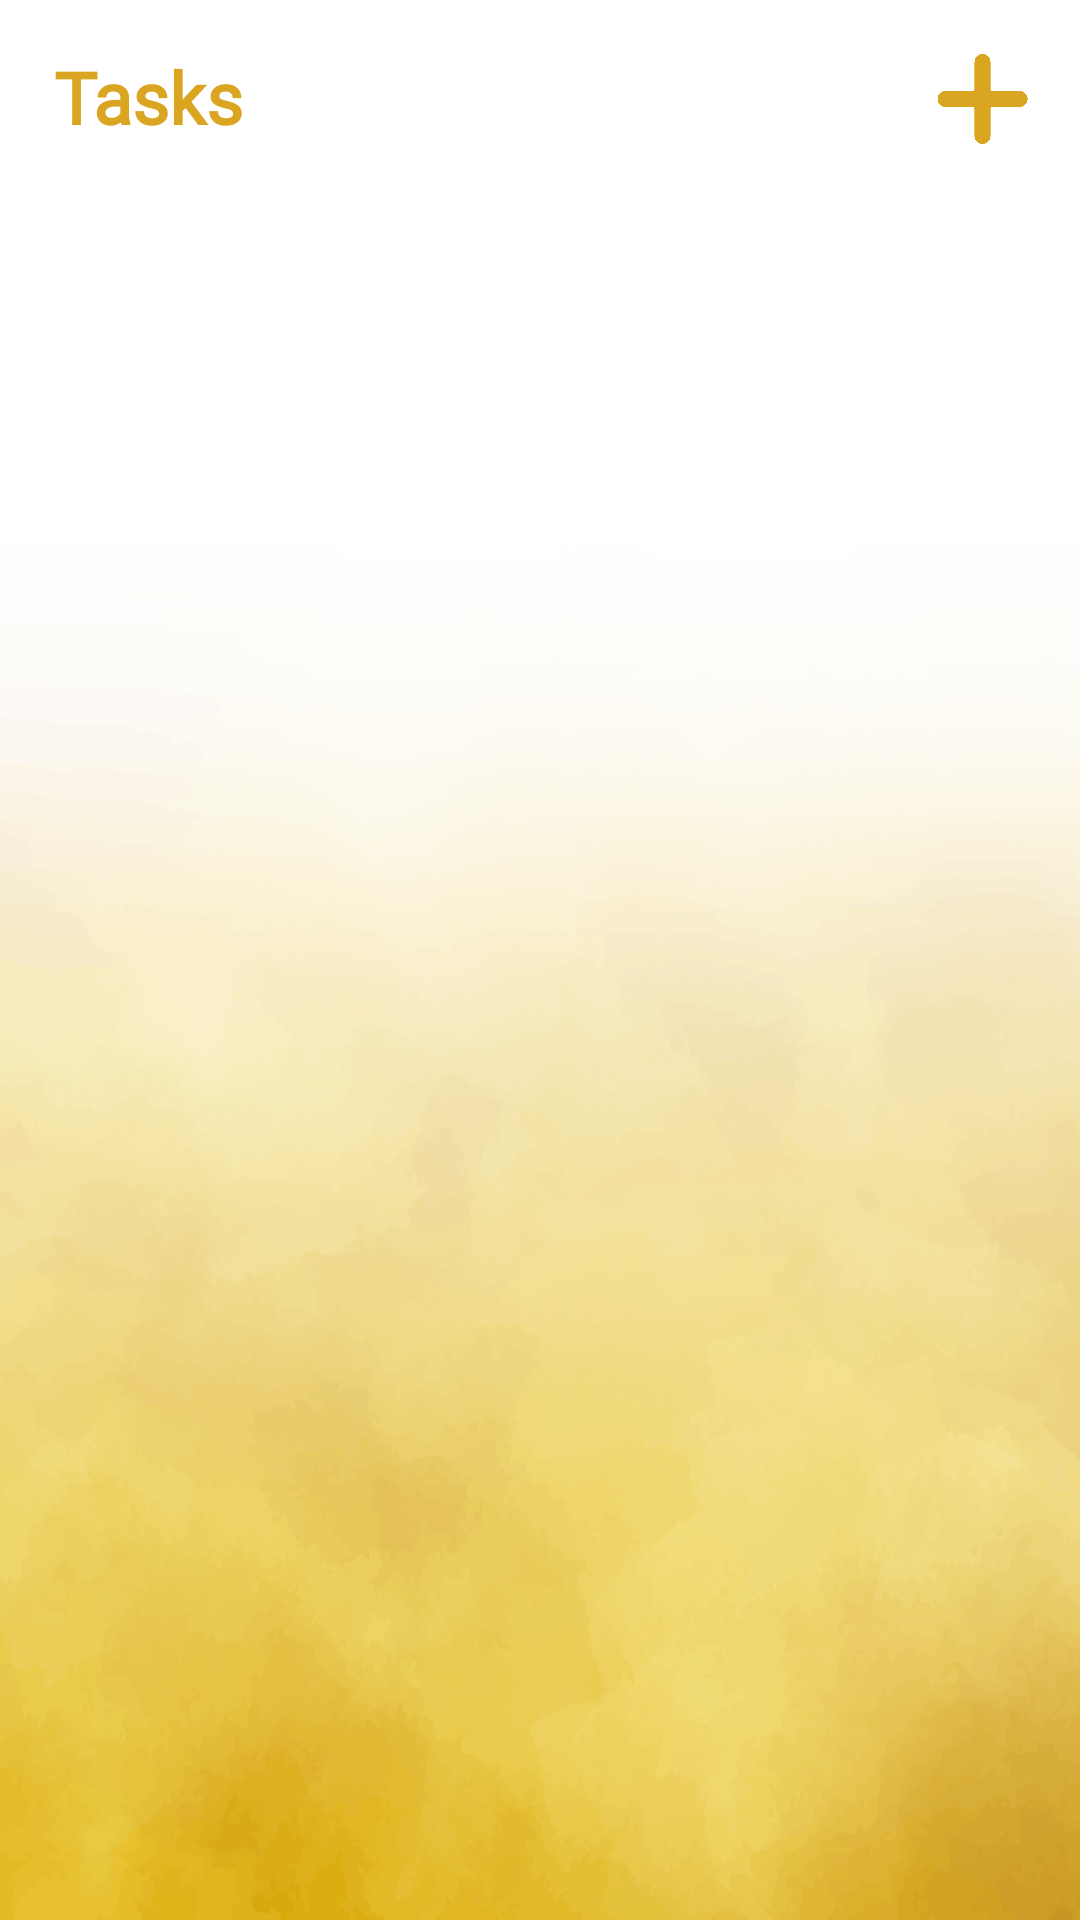

Icon click points for this 1080w x 1920h phone screenshot, format (x=x, y=y):
add: (x=983, y=99)
